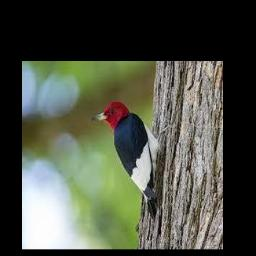Woodpecker: (91, 101, 170, 219)
